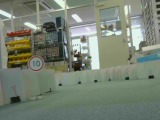speed_10: (27, 55, 45, 72)
